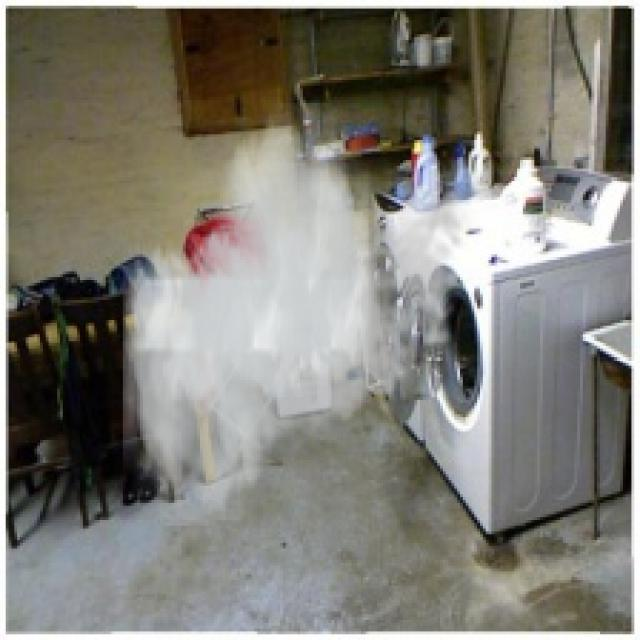Smoke: (122, 103, 474, 526)
